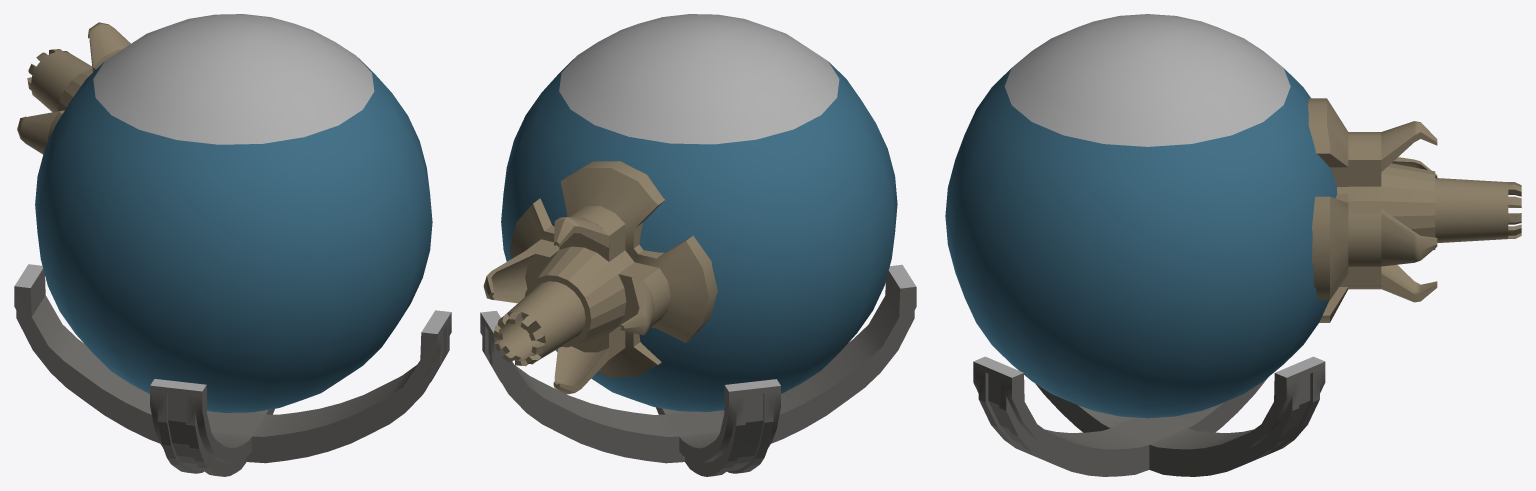
Rendered from WaterTurret.fbx.
3 renders of one model, left to right at view 1: azimuth 30°, elevation 25°; view 2: azimuth 150°, elevation 25°; view 3: azimuth 270°, elevation 25°, orthographic.
Parts seen in each view (by area): view 1: TurretBody, TurrentCap, TurretStand; view 2: TurretBody, TurrentCap, TurretStand; view 3: TurretBody, TurrentCap, TurretStand.
Boxes of the visible parts, bbox=[...] form: TurretBody: bbox=[17, 22, 432, 412]; TurrentCap: bbox=[93, 14, 374, 144]; TurretStand: bbox=[14, 264, 451, 476]; TurretBody: bbox=[483, 58, 897, 411]; TurrentCap: bbox=[559, 14, 839, 144]; TurretStand: bbox=[480, 264, 916, 476]; TurretBody: bbox=[945, 68, 1521, 418]; TurrentCap: bbox=[1004, 14, 1290, 146]; TurretStand: bbox=[973, 356, 1325, 476].
Bounding box in the file's own units: 12.29 × 14.26 × 17.51.
